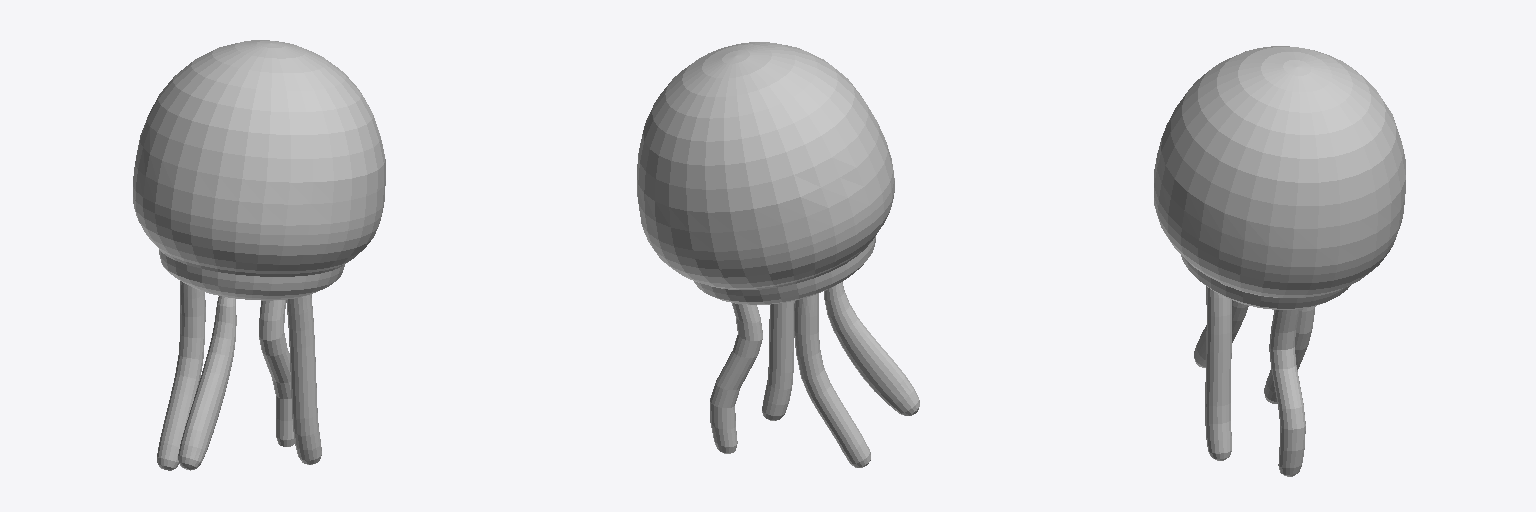
File: jellyfish.obj
3 renders of one model, left to right at view 1: azimuth 30°, elevation 25°; view 2: azimuth 150°, elevation 25°; view 3: azimuth 270°, elevation 25°, orthographic.
Visible parts, largest first — view 1: Jelly_Fish_02_-_Default_0.001, Jelly_Fish_03_-_Default_0.001; view 2: Jelly_Fish_02_-_Default_0.001, Jelly_Fish_03_-_Default_0.001; view 3: Jelly_Fish_02_-_Default_0.001, Jelly_Fish_03_-_Default_0.001.
Boxes of the visible parts, x1,y1,x2,y2 form: Jelly_Fish_02_-_Default_0.001: [133, 40, 385, 300]; Jelly_Fish_03_-_Default_0.001: [157, 281, 321, 470]; Jelly_Fish_02_-_Default_0.001: [637, 42, 894, 304]; Jelly_Fish_03_-_Default_0.001: [710, 282, 919, 467]; Jelly_Fish_02_-_Default_0.001: [1154, 46, 1405, 309]; Jelly_Fish_03_-_Default_0.001: [1194, 286, 1315, 476].
Bounding box in the file's own units: 152 × 258 × 146.